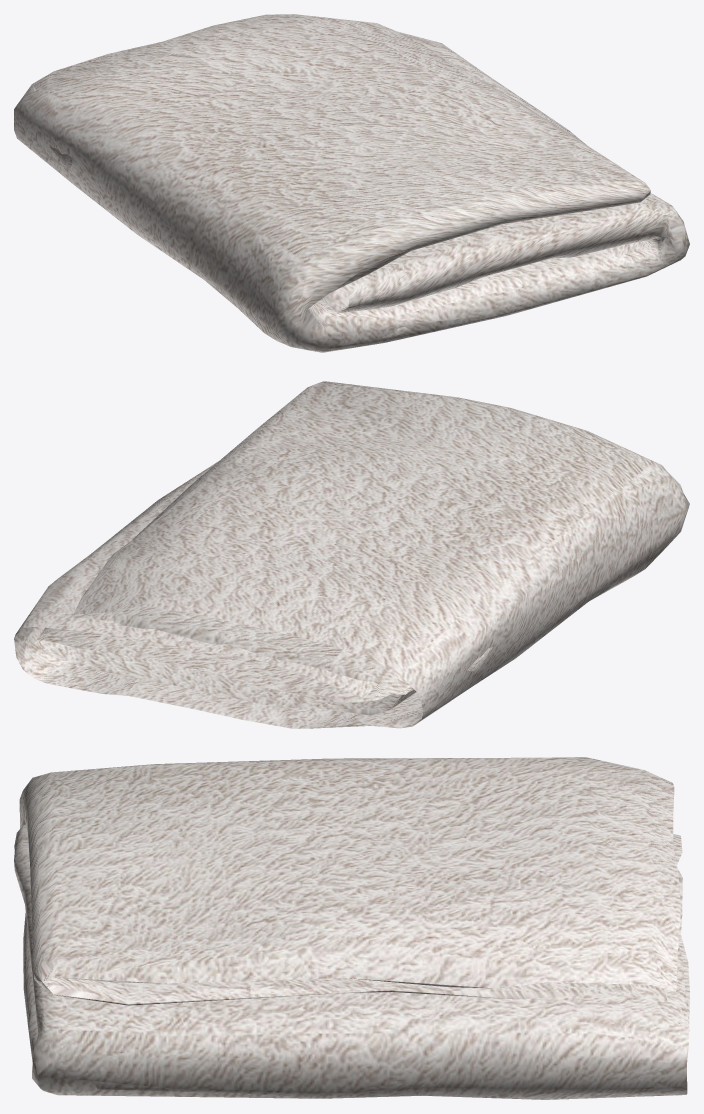
File: Selimut.fbx
3 renders of one model, top to bottom at view 1: azimuth 30°, elevation 25°; view 2: azimuth 150°, elevation 25°; view 3: azimuth 270°, elevation 25°, orthographic. The views are drawn at different scales.
Parts seen in each view (by area): view 1: selimut; view 2: selimut; view 3: selimut.
Boxes of the visible parts, x1,y1,x2,y2 form: selimut: (14,14,689,352); selimut: (14,381,689,728); selimut: (14,757,689,1099).
Size of the model in its own units: 17.4 by 5 by 20.39.
Materials: 1 (1 with a texture image).
